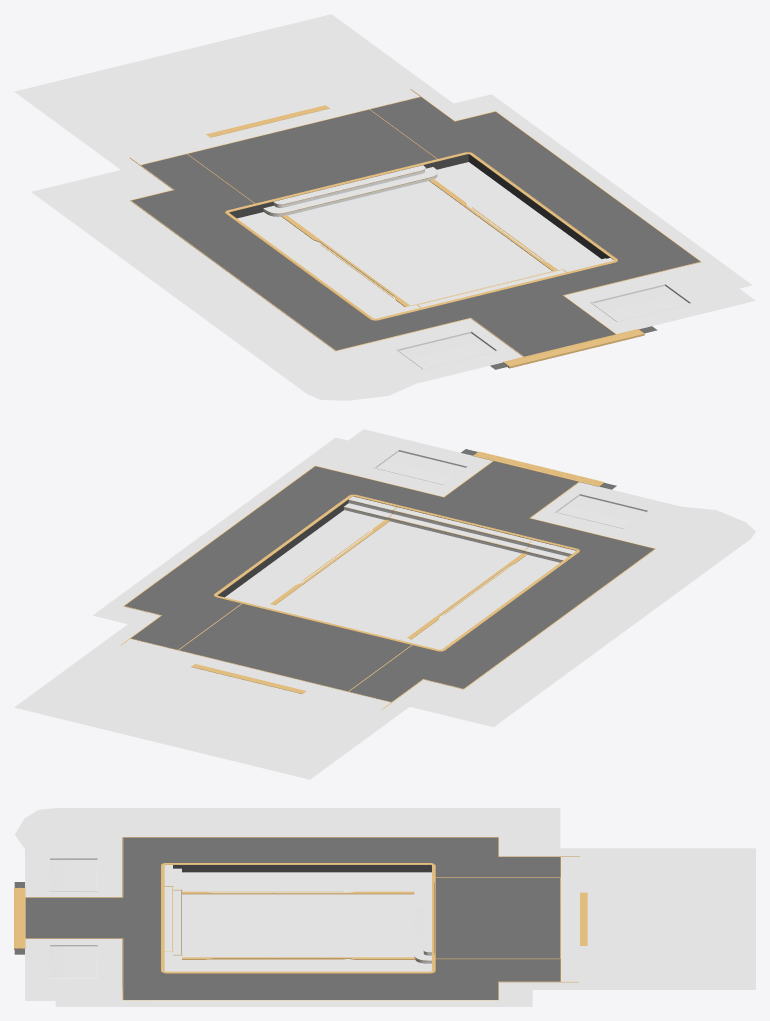
The picture shows the model from 3 angles, top to bottom: view 1: azimuth 30°, elevation 25°; view 2: azimuth 150°, elevation 25°; view 3: azimuth 270°, elevation 25°; orthographic projection. The views are drawn at different scales.
Visible parts, largest first — view 1: SM_H_Building_FutureTech_Dock_06a_InterWall_01b; view 2: SM_H_Building_FutureTech_Dock_06a_InterWall_01b; view 3: SM_H_Building_FutureTech_Dock_06a_InterWall_01b.
Boxes of the visible parts, left/top/right/bottom form: SM_H_Building_FutureTech_Dock_06a_InterWall_01b: left=14, top=14, right=755, bottom=400; SM_H_Building_FutureTech_Dock_06a_InterWall_01b: left=14, top=429, right=755, bottom=779; SM_H_Building_FutureTech_Dock_06a_InterWall_01b: left=14, top=808, right=755, bottom=1006.
Bounding box in the file's own units: 918 × 582 × 11.46.
